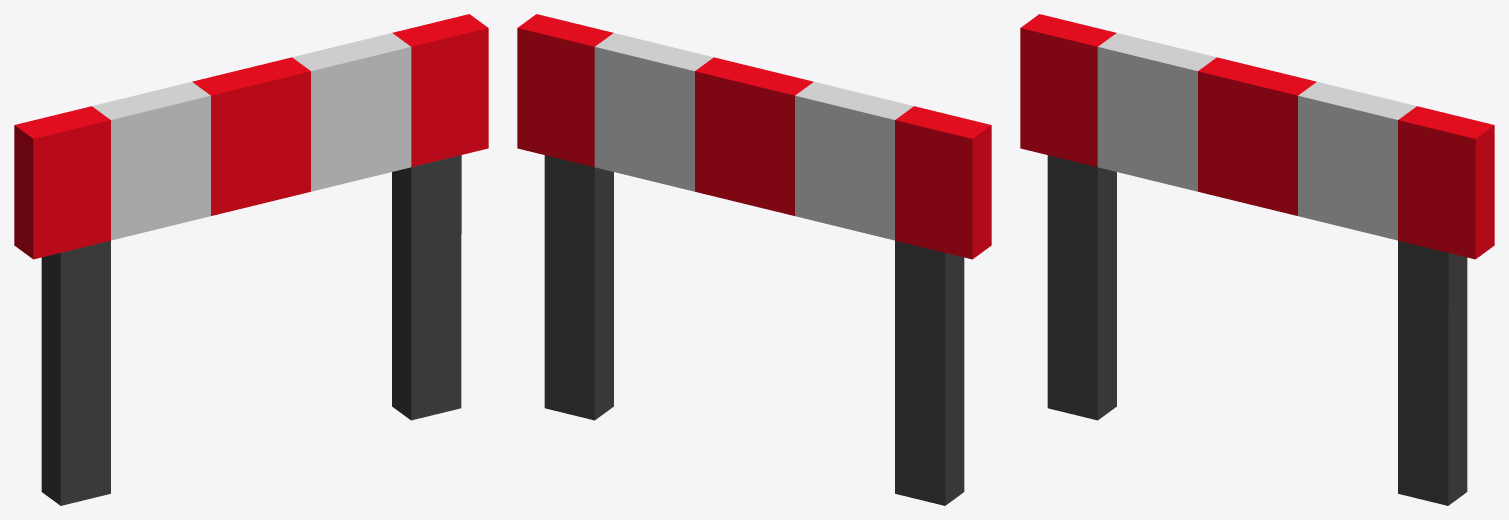
The model's file is este3.fbx.
3 views of the same model, side by side, from view 1: azimuth 30°, elevation 25°; view 2: azimuth 150°, elevation 25°; view 3: azimuth 330°, elevation 25° (orthographic).
Visible parts, largest first — view 1: Cube; view 2: Cube; view 3: Cube.
Part boxes in pixels (bbox=[...]): Cube: bbox=[14, 14, 488, 505]; Cube: bbox=[517, 14, 991, 505]; Cube: bbox=[1020, 14, 1494, 505].
Bounding box in the file's own units: 128 × 100 × 9.26.
